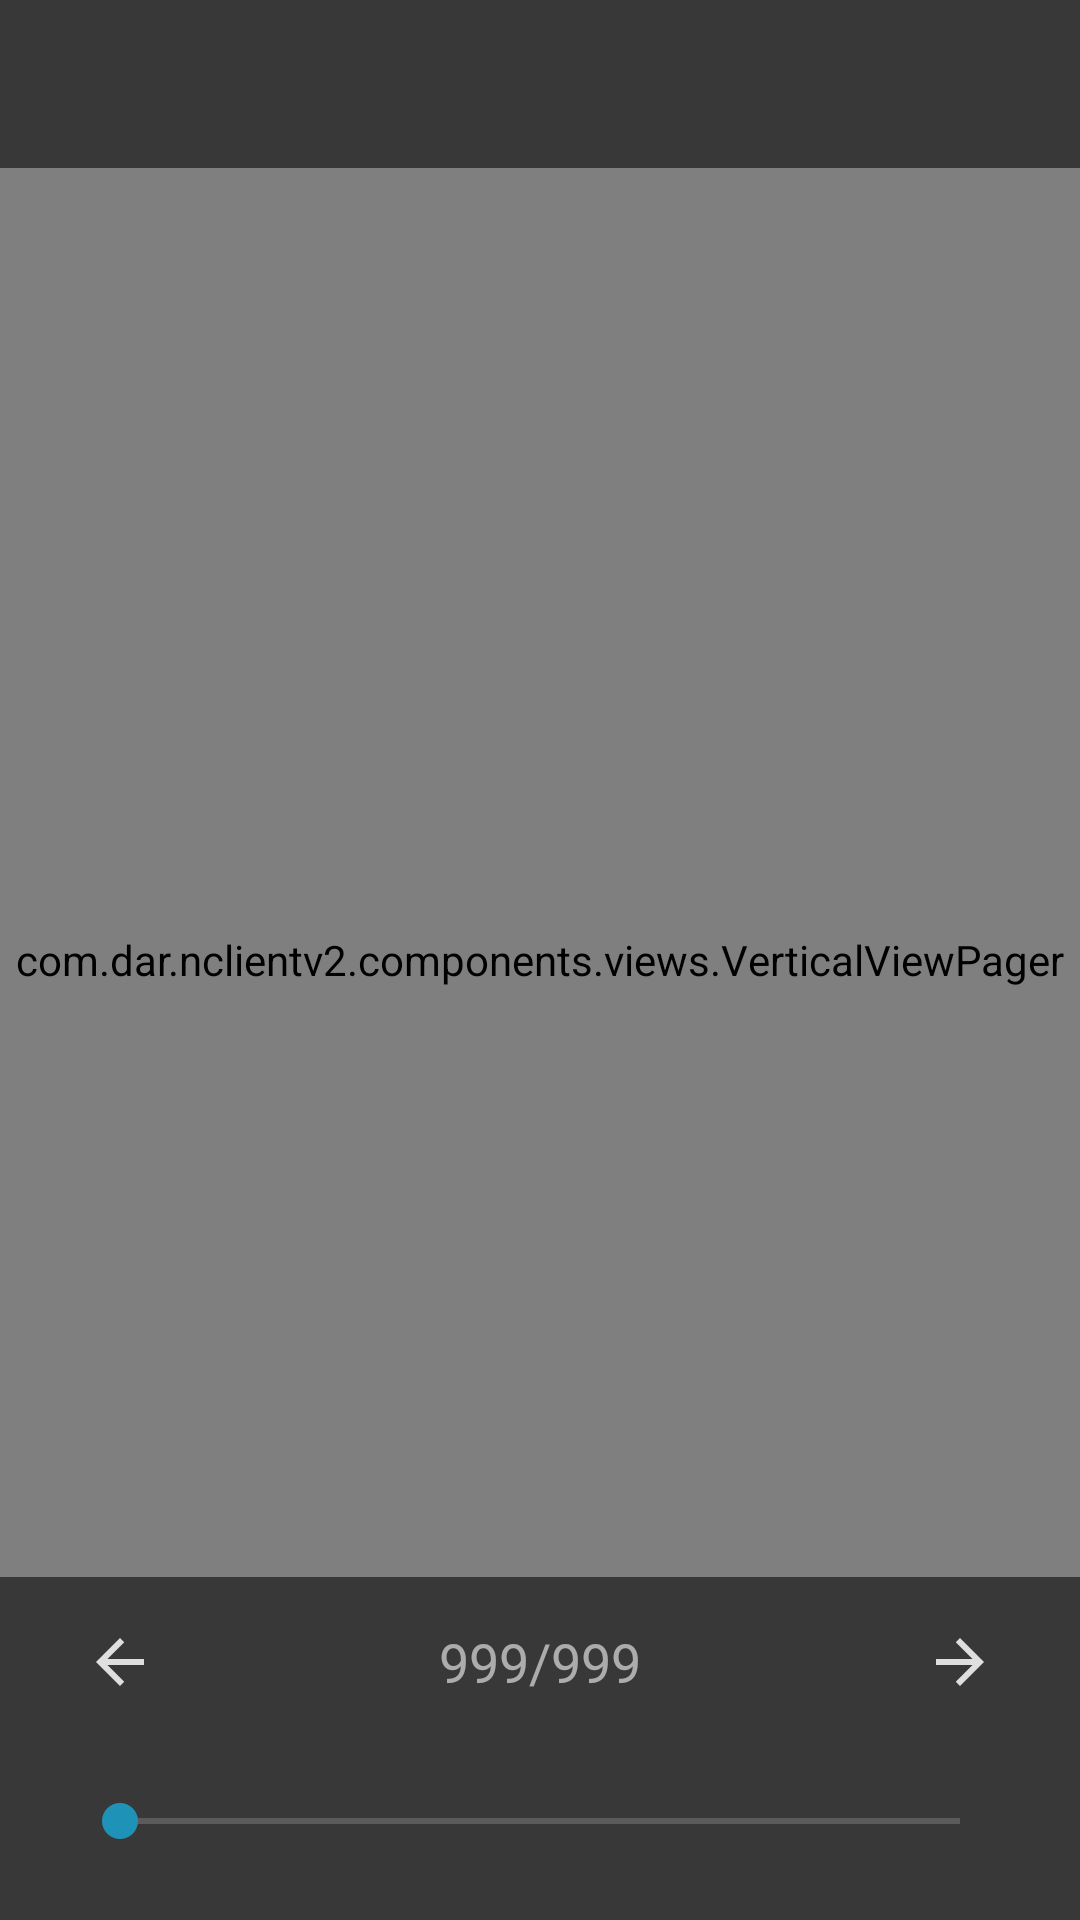

Icons on this 1080w x 1920h Android screen, each with the point to tap as (x=x, y=y):
Next: (x=960, y=1662)
Previous: (x=120, y=1662)
